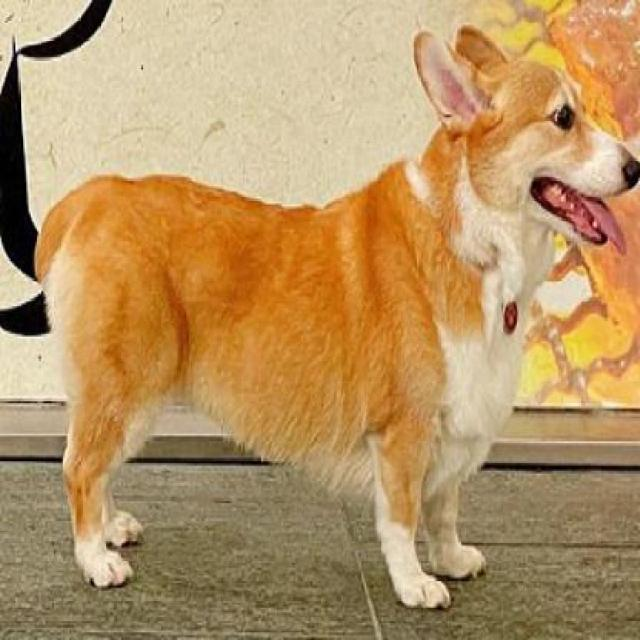Dog: (37, 21, 638, 617)
